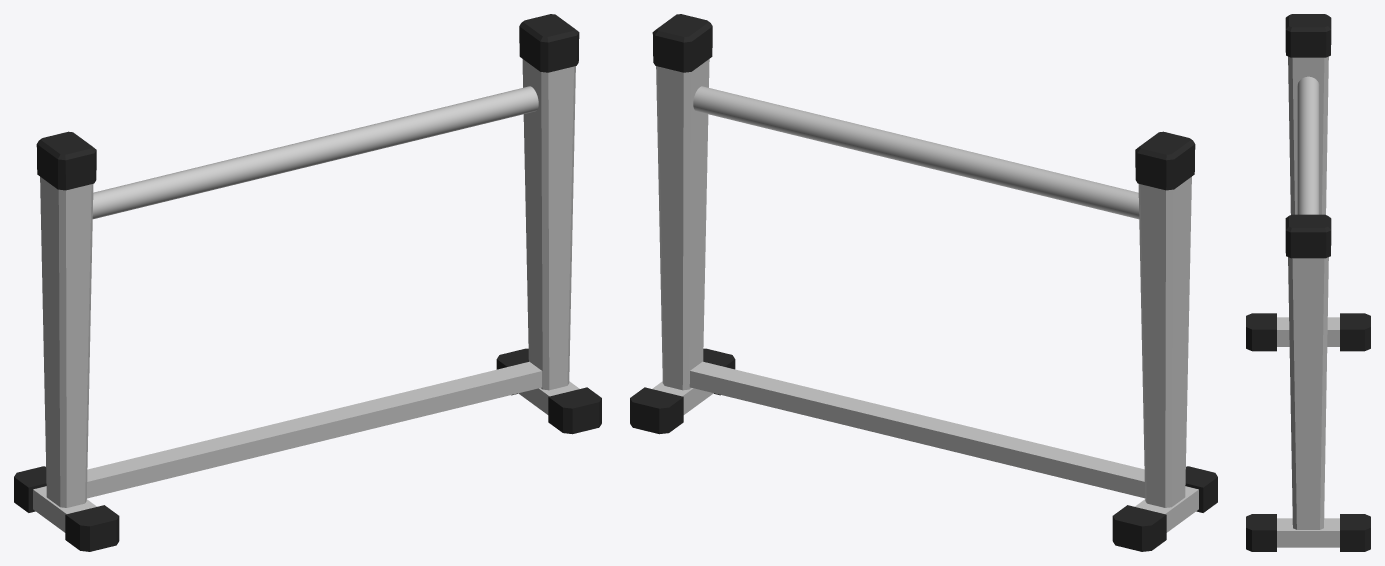
Rendered from Hanger 1.fbx.
3 views of the same model, side by side, from view 1: azimuth 30°, elevation 25°; view 2: azimuth 150°, elevation 25°; view 3: azimuth 270°, elevation 25° (orthographic). The views are drawn at different scales.
Parts seen in each view (by area): view 1: Hanger; view 2: Hanger; view 3: Hanger.
Boxes of the visible parts, x1,y1,x2,y2 form: Hanger: [14, 14, 601, 551]; Hanger: [630, 14, 1217, 551]; Hanger: [1246, 14, 1370, 551].
Bounding box in the file's own units: 298 × 207 × 72.61.
